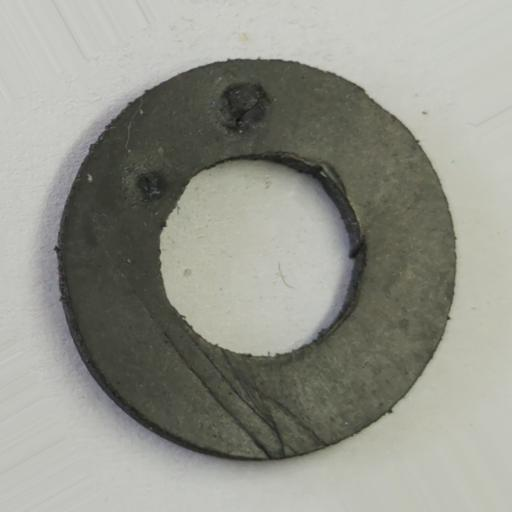defect: (162, 325, 330, 461), (218, 82, 270, 131), (137, 172, 168, 201)
